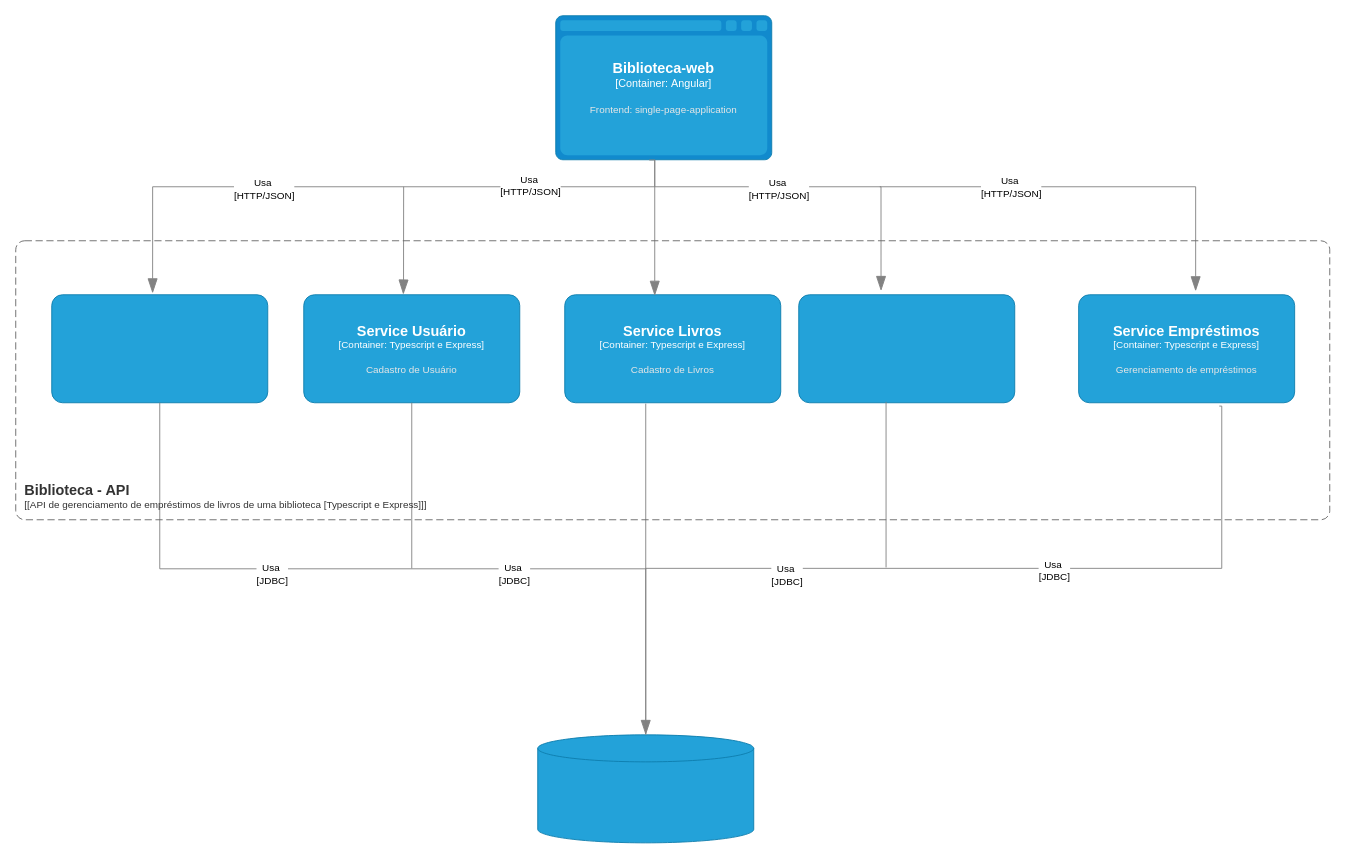
This 1346x859 diagram has some shape labels left out. The shapes that lost their labels are listed below. From the top down, each one's centre as x and y in pixels, then its label:
the point at 159,348: Service Pessoa [Container: Typescript e Express] Cadastro de pessoa
the point at 906,348: Service Categoria [Container: Typescript e Express] Cadastro de categorias
the point at 645,788: Biblioteca Repository [Container: mySql] Gestão de empréstimos
